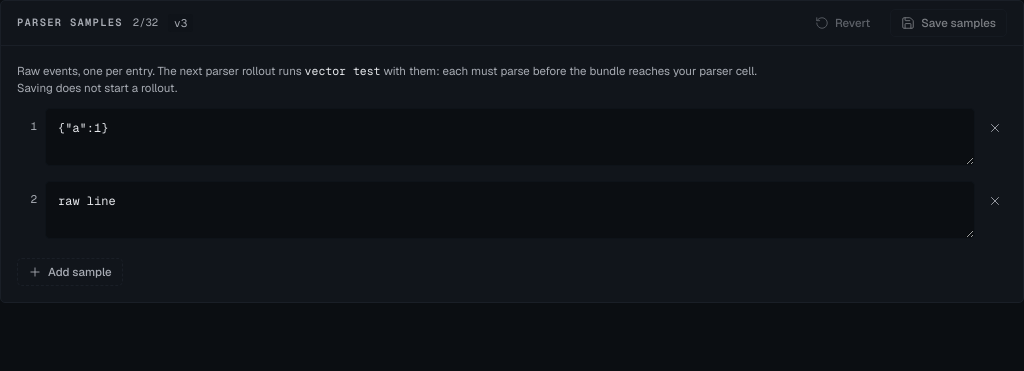
ParserSamplesEditor › shows the server refusal when a save fails
This screenshot has width=1024, height=371.
Replace the text in the text box named "Sample 1" with "changed". click: (510,137)
box: [45,108,975,166]
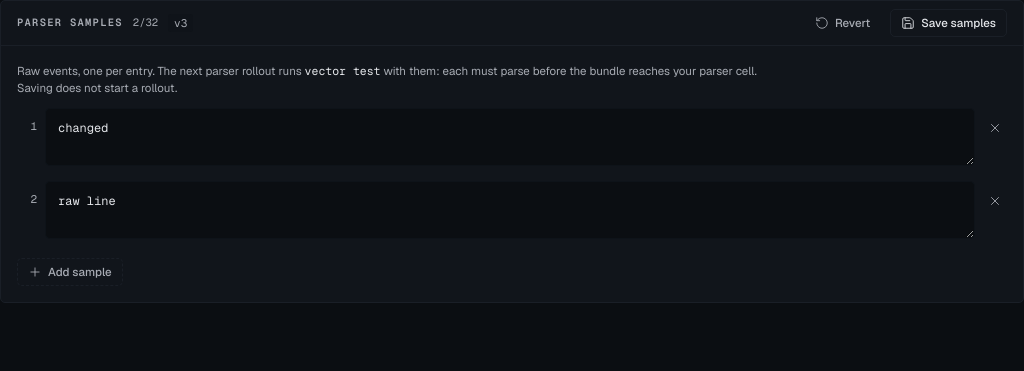
Click the button "Save samples". click: (949,23)
box: [890,9,1007,37]
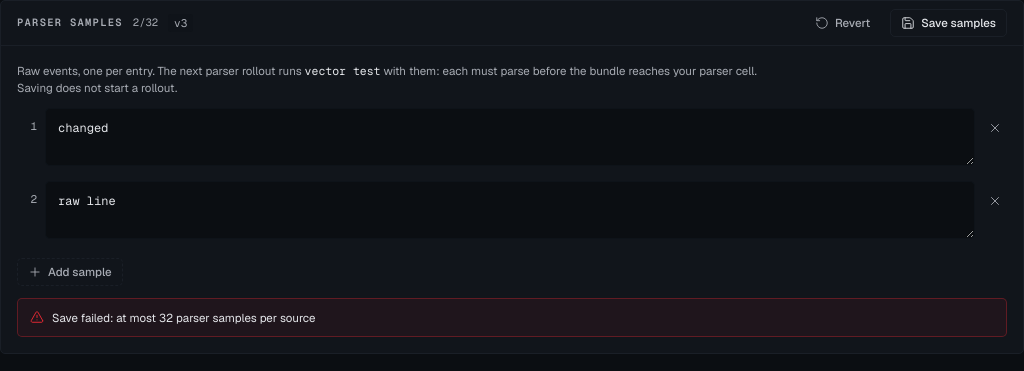
expect the message shows "Save failed: at most 32 parser samples": met, box [17,298,1007,337]
